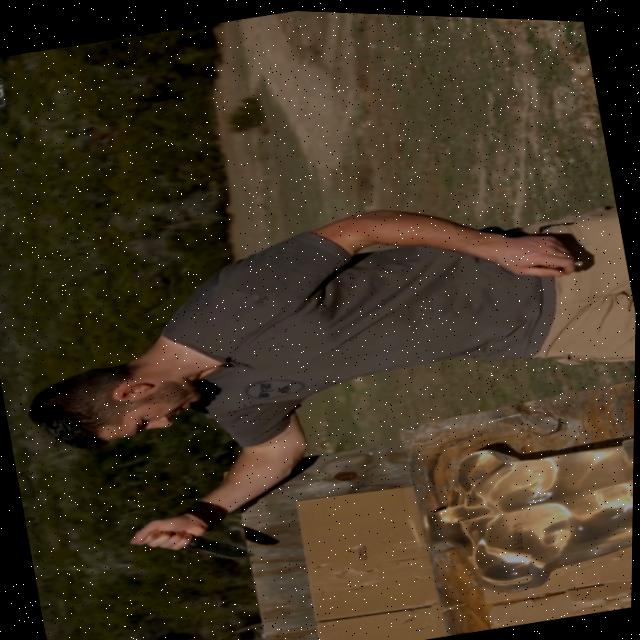knife: (175, 516, 256, 568)
